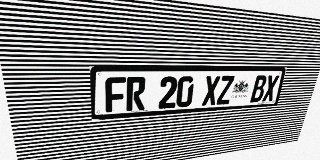0: (176, 76, 195, 108)
2: (158, 76, 178, 109)
B: (250, 75, 268, 102)
F: (105, 77, 126, 112)
R: (126, 77, 146, 111)
X: (202, 76, 220, 106), (262, 75, 279, 102)
Z: (216, 76, 235, 105)
